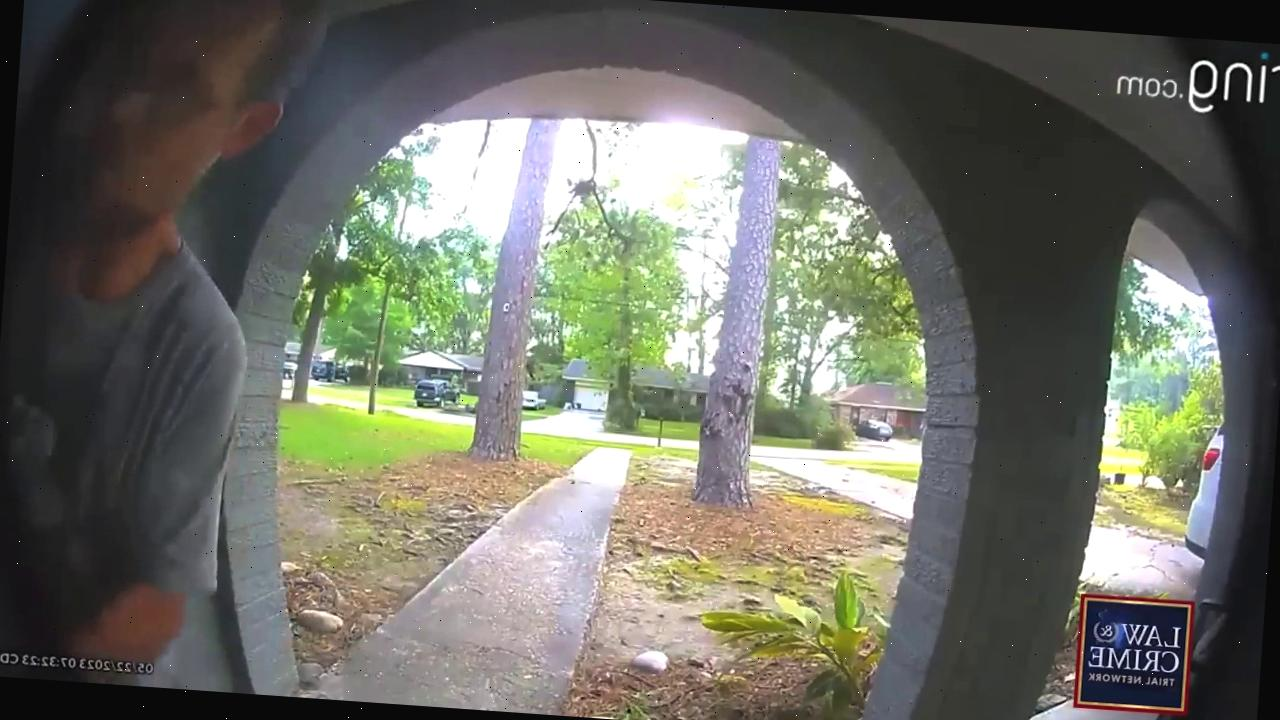suspicion: (0, 0, 353, 697)
